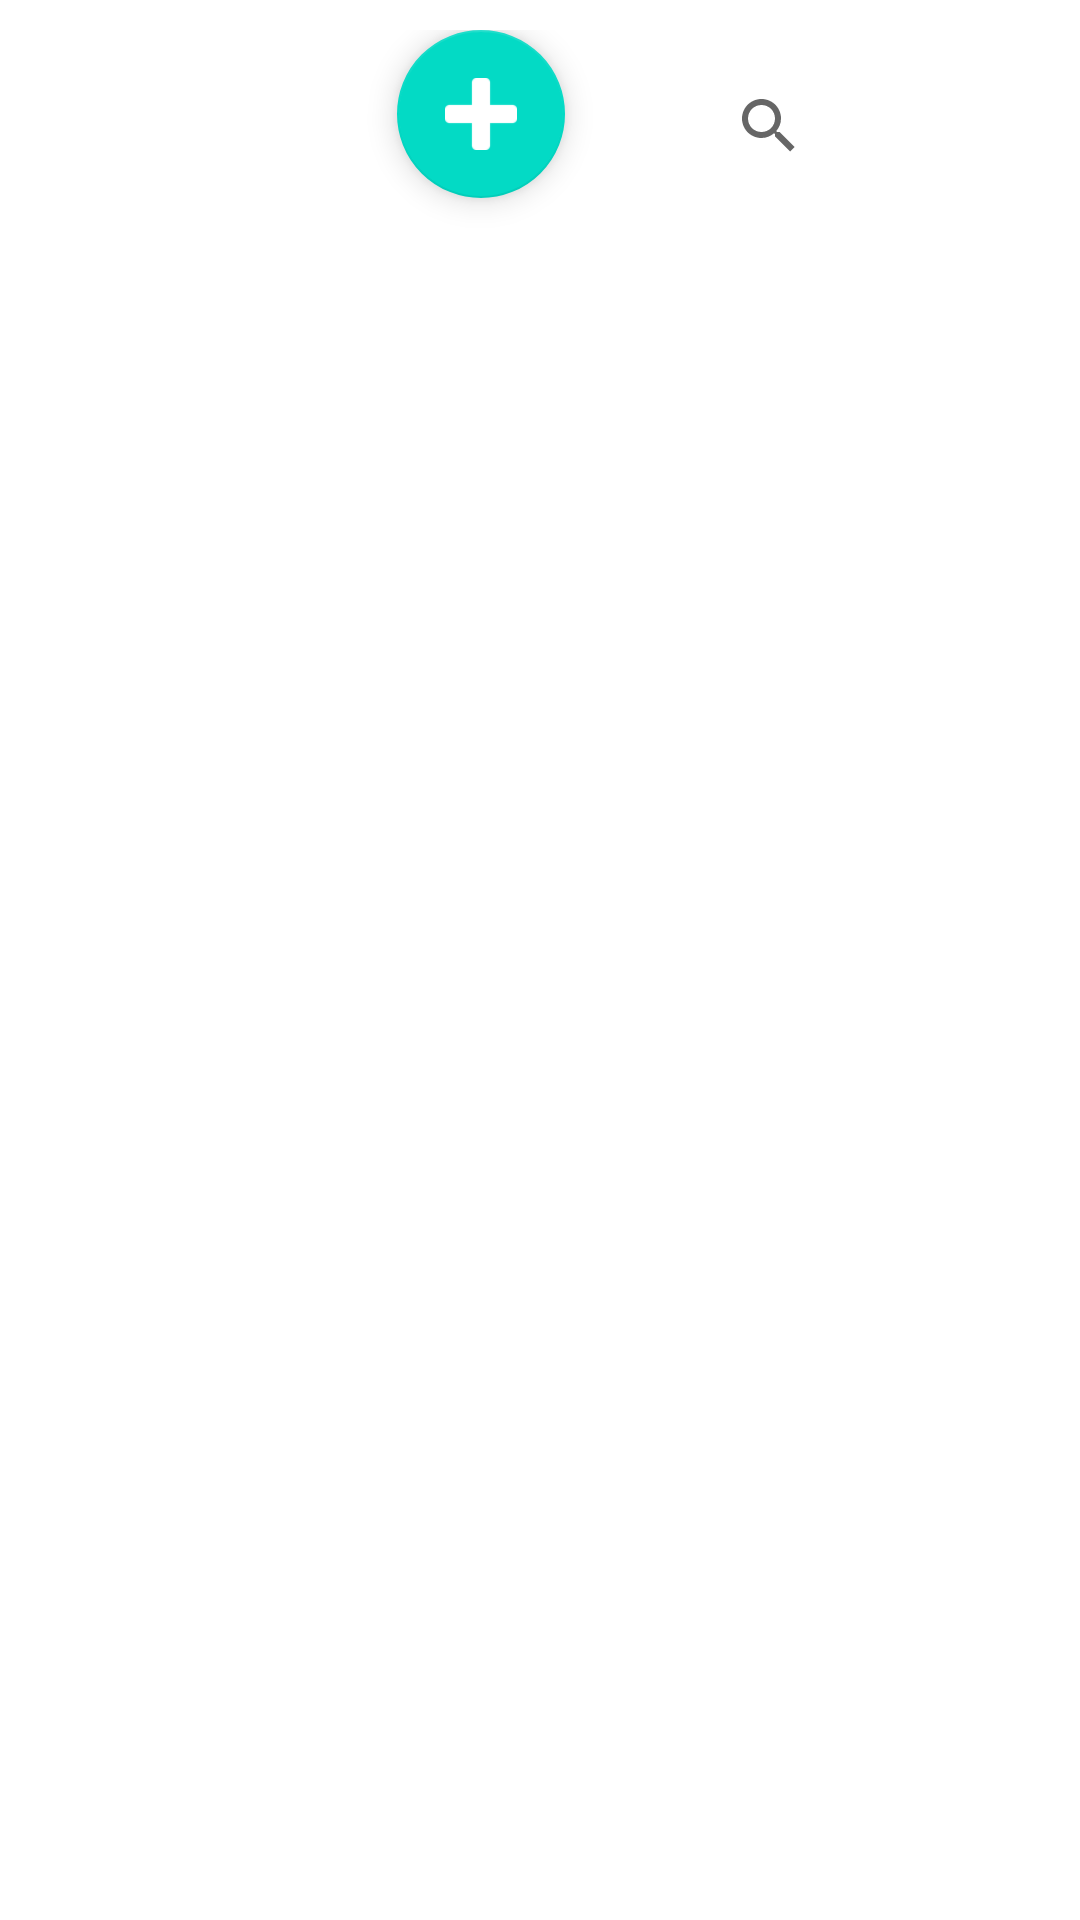

Where to tap for icons on this 1080 x 1920 app screen, as [x,y]:
plus: [481,114]
